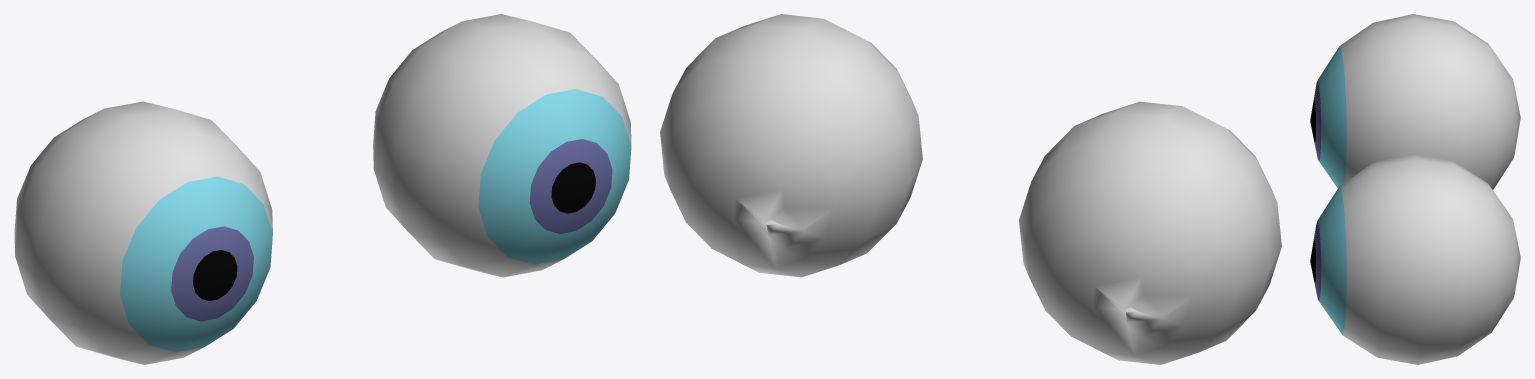
File: eye.fbx
3 views of the same model, side by side, from view 1: azimuth 30°, elevation 25°; view 2: azimuth 150°, elevation 25°; view 3: azimuth 270°, elevation 25° (orthographic). The views are drawn at different scales.
Parts seen in each view (by area): view 1: LEFT_EYE_BALL, RIGHT_EYE_BALL; view 2: LEFT_EYE_BALL, RIGHT_EYE_BALL; view 3: LEFT_EYE_BALL, RIGHT_EYE_BALL.
Part boxes in pixels (x1,y1,x2,y2): LEFT_EYE_BALL: (373, 14, 631, 277); RIGHT_EYE_BALL: (14, 101, 272, 364); LEFT_EYE_BALL: (660, 14, 922, 277); RIGHT_EYE_BALL: (1019, 101, 1281, 364); LEFT_EYE_BALL: (1310, 154, 1520, 364); RIGHT_EYE_BALL: (1310, 14, 1520, 189).
Bounding box in the file's own units: 25.52 × 9.92 × 9.94.
